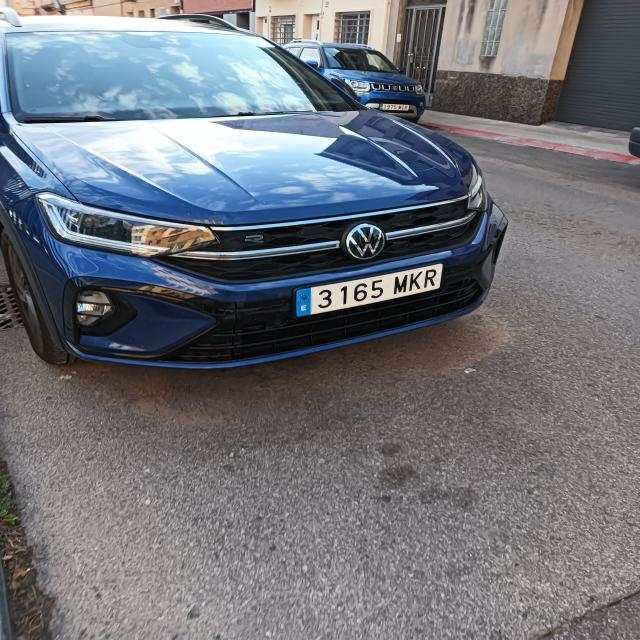license_plate-34Td: (296, 264, 442, 315)
